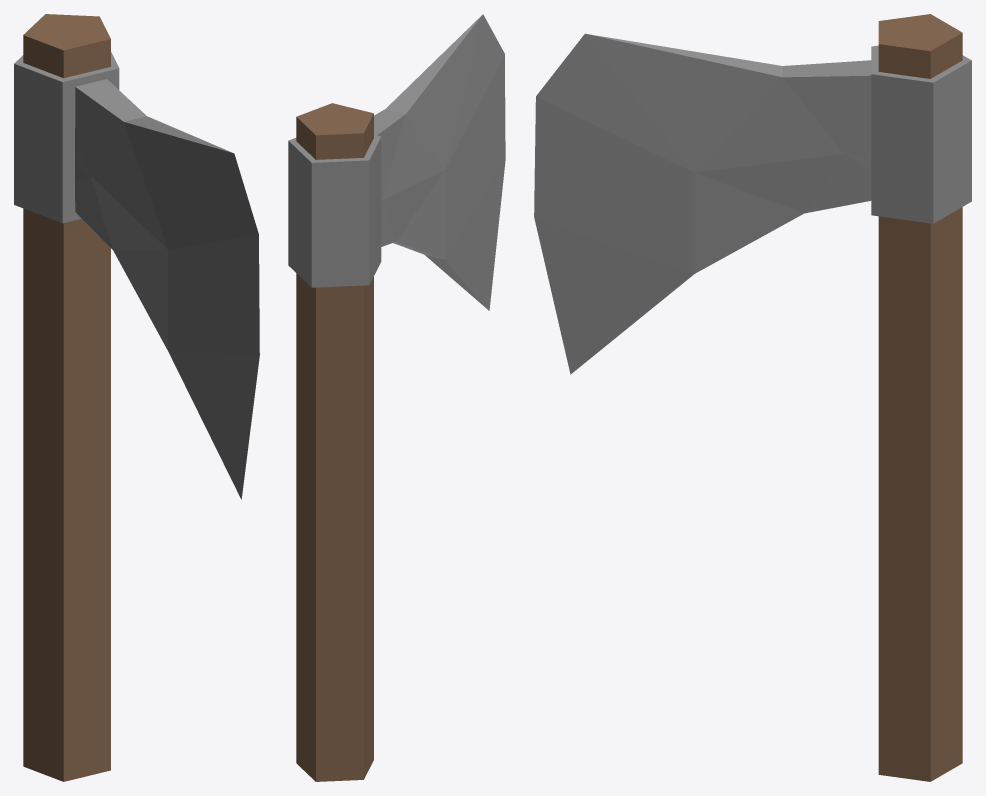
The model's file is Axe.fbx.
3 views of the same model, side by side, from view 1: azimuth 30°, elevation 25°; view 2: azimuth 150°, elevation 25°; view 3: azimuth 270°, elevation 25° (orthographic). The views are drawn at different scales.
Visible parts, largest first — view 1: Cylinder, Plane; view 2: Cylinder, Plane; view 3: Plane, Cylinder.
Part boxes in pixels (x1=…): Cylinder: x1=14, y1=14, x2=119, y2=781; Plane: x1=75, y1=79, x2=259, y2=499; Cylinder: x1=288, y1=103, x2=381, y2=781; Plane: x1=374, y1=14, x2=505, y2=310; Plane: x1=534, y1=33, x2=871, y2=374; Cylinder: x1=871, y1=14, x2=971, y2=781.
Size of the model in its own units: 11.85 by 49.02 by 90.29.
